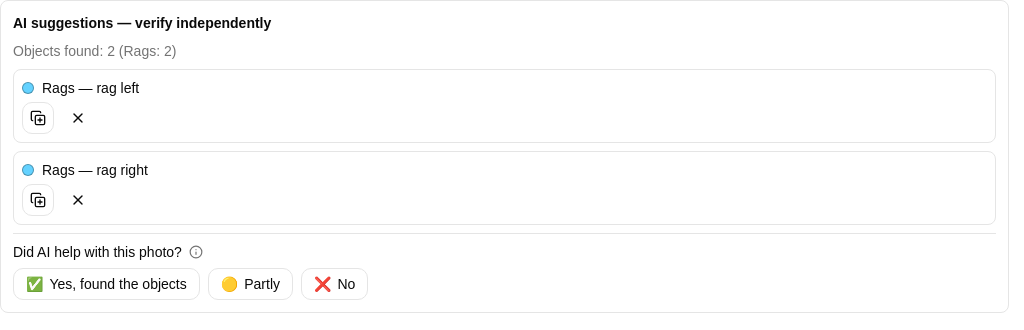
Test: accepts, rejects with a reason and restores suggestions while announcing completion
Click the button named "Add to my annotations" below "Rags — rag left". click: (38, 118)
box: [22, 102, 54, 134]
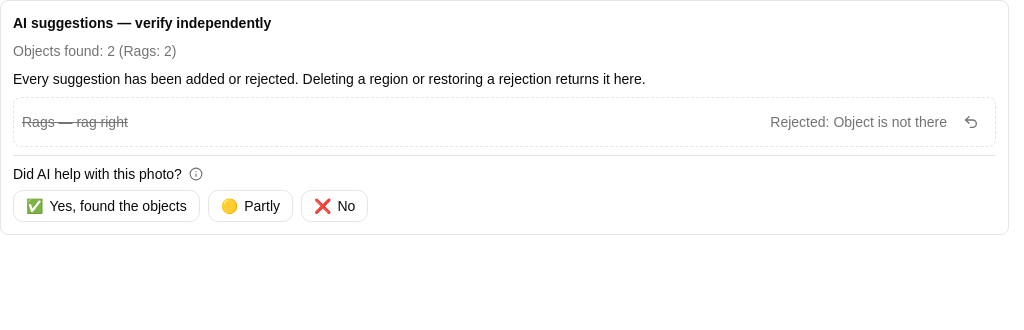
Expected: the text "Rags — rag left" is gone
Expected: the message shows "Every suggestion has been added or rejected. Deleting a region or restoring a rejection returns it here.", [13, 71, 646, 87]
Click the button named "Restore". click: (971, 122)
box: [955, 106, 987, 138]
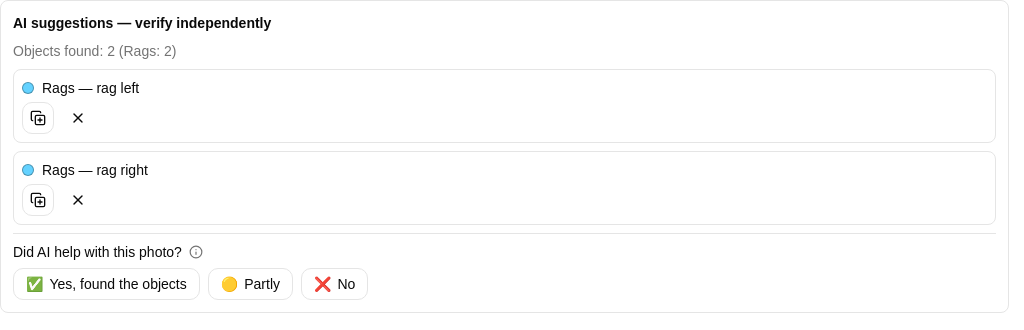
Expected: the text "Rags — rag right" is shown, [42, 160, 148, 180]
Expected: the number of buttons named "Add to my annotations" is 2, [22, 102, 54, 134]; [22, 184, 54, 216]
